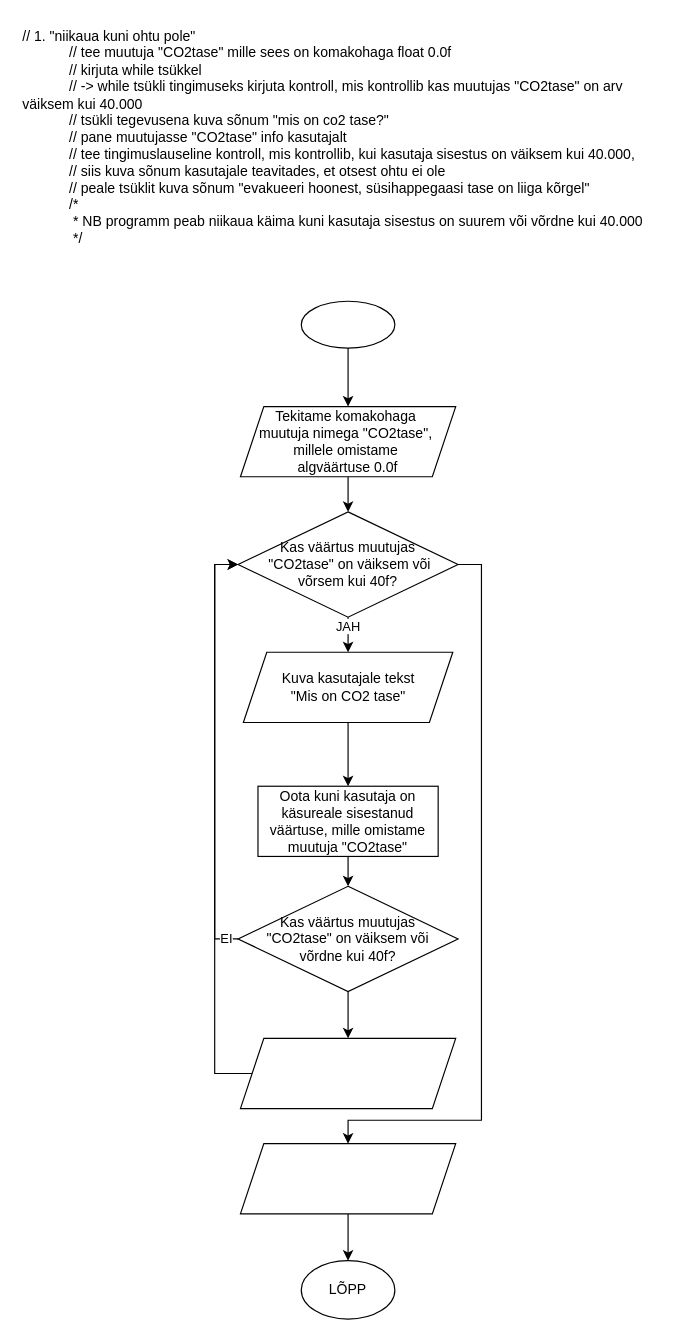
Some shapes in this 695 by 1340 pixel diagram are drawn without their labels. The shapes that lost their labels are listed below. From the top down, each one's centre as x and y in pixels, then its label:
point 347,324: Algus
point 347,1073: Kuva kasutajale tekst "Otsest ohtu ei ole"
point 347,1178: Kuva kasutajale tekst "CO2 tase on liiga kõrge!"
